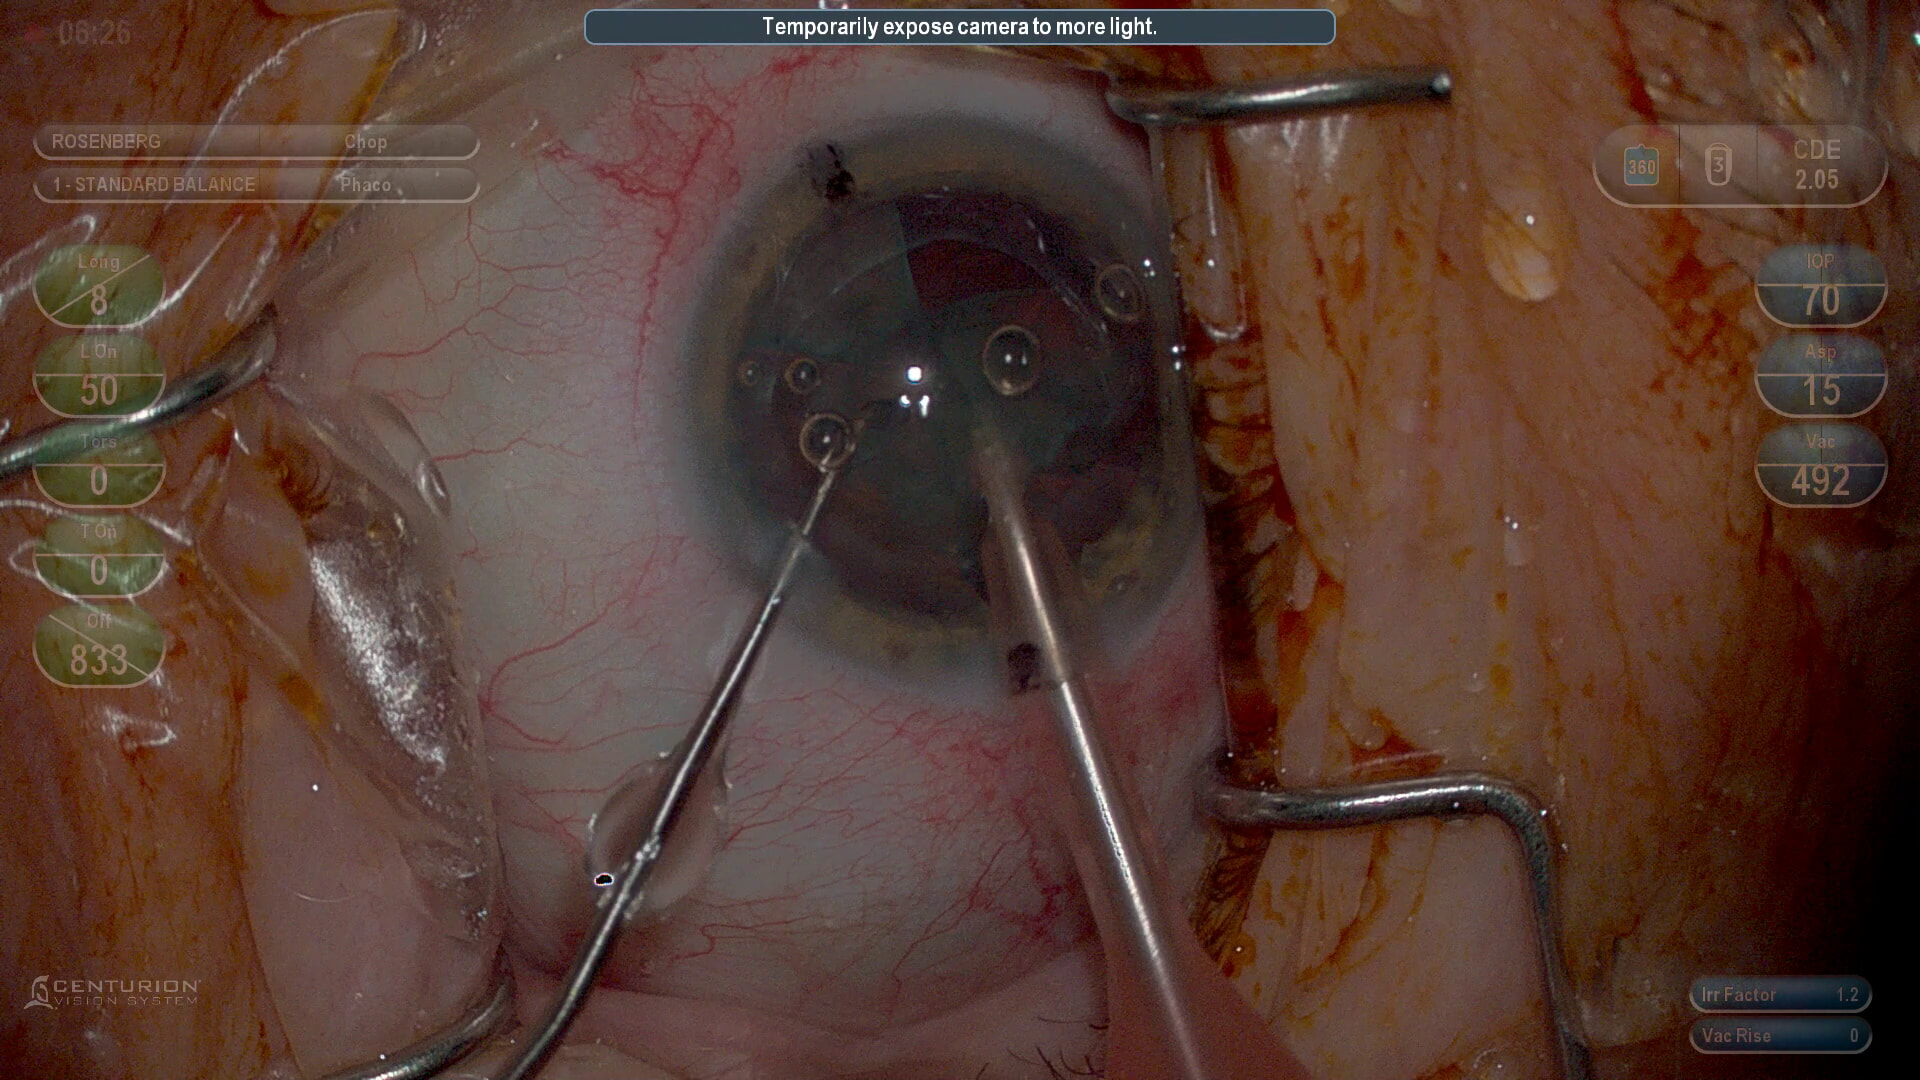iris: (681, 119, 1220, 682)
pupil: (742, 195, 1157, 621)
